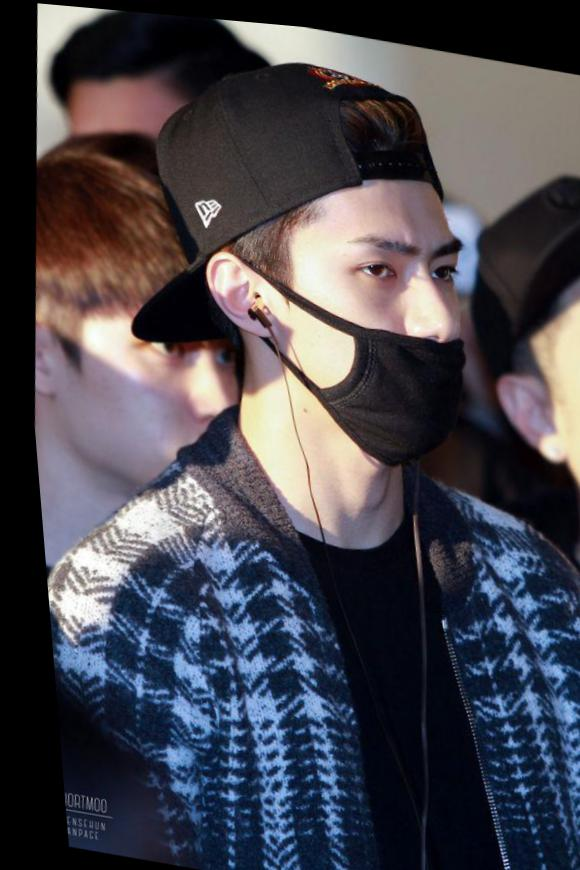NONE: (62, 293, 264, 503)
WRONG: (243, 195, 508, 461)
